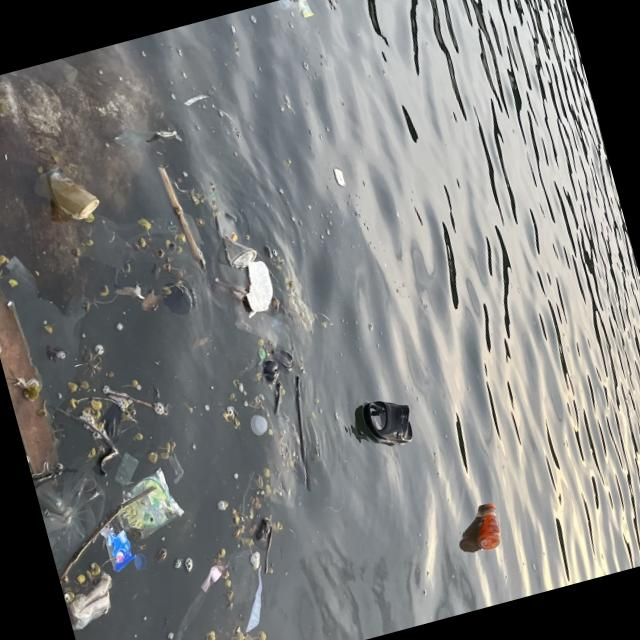foam: (238, 258, 277, 312), (332, 166, 344, 188)
plastic: (468, 502, 506, 552)
plastic bottle: (0, 241, 112, 419), (69, 192, 206, 292), (31, 460, 118, 571), (155, 557, 243, 640), (248, 410, 314, 516), (109, 464, 190, 546), (28, 161, 102, 228), (230, 294, 296, 364), (60, 572, 122, 630), (227, 564, 278, 634), (212, 204, 258, 270), (218, 547, 262, 606), (100, 522, 139, 574), (288, 288, 318, 335), (106, 452, 144, 487), (274, 0, 315, 25), (166, 452, 187, 485), (247, 412, 269, 438)
unknow: (82, 404, 132, 474), (360, 393, 418, 452), (157, 279, 195, 320)
